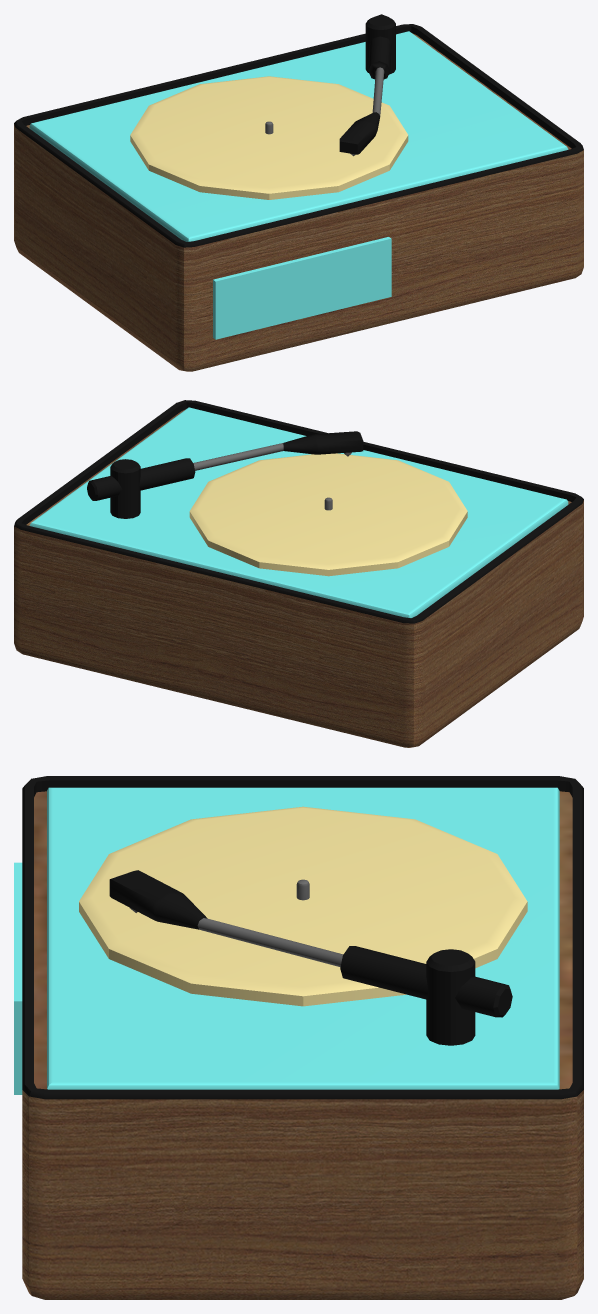
Rendered from recordPlayer.glb.
3 renders of one model, top to bottom at view 1: azimuth 30°, elevation 25°; view 2: azimuth 150°, elevation 25°; view 3: azimuth 270°, elevation 25°, orthographic. The views are drawn at different scales.
Parts seen in each view (by area): view 1: box, stand, buttonPanel, toneArm, needleKnob; view 2: box, stand, toneArm, needleKnob; view 3: box, stand, toneArm, needleKnob, buttonPanel.
Part boxes in pixels (x1=…): box: x1=14, y1=24, x2=583, y2=371; stand: x1=130, y1=76, x2=408, y2=199; buttonPanel: x1=213, y1=237, x2=391, y2=339; toneArm: x1=339, y1=14, x2=391, y2=156; needleKnob: x1=365, y1=16, x2=395, y2=74; box: x1=14, y1=400, x2=583, y2=747; stand: x1=189, y1=453, x2=467, y2=576; toneArm: x1=87, y1=431, x2=363, y2=500; needleKnob: x1=110, y1=459, x2=140, y2=518; box: x1=22, y1=776, x2=583, y2=1299; stand: x1=79, y1=806, x2=527, y2=1006; toneArm: x1=109, y1=870, x2=512, y2=1017; needleKnob: x1=426, y1=949, x2=475, y2=1045; buttonPanel: x1=14, y1=862, x2=22, y2=1094.
Size of the model in its own units: 0.8407 by 0.3565 by 0.632.
Materials: 5 (1 with a texture image).
